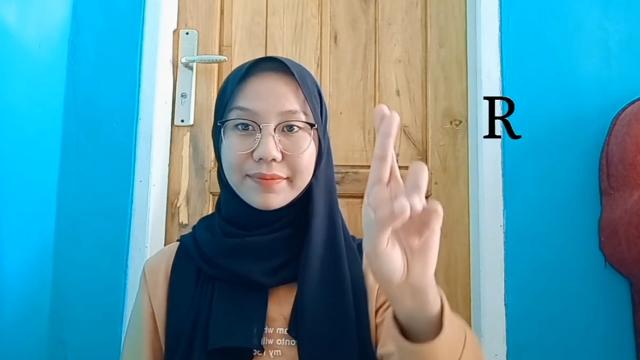R: (359, 98, 446, 288)
